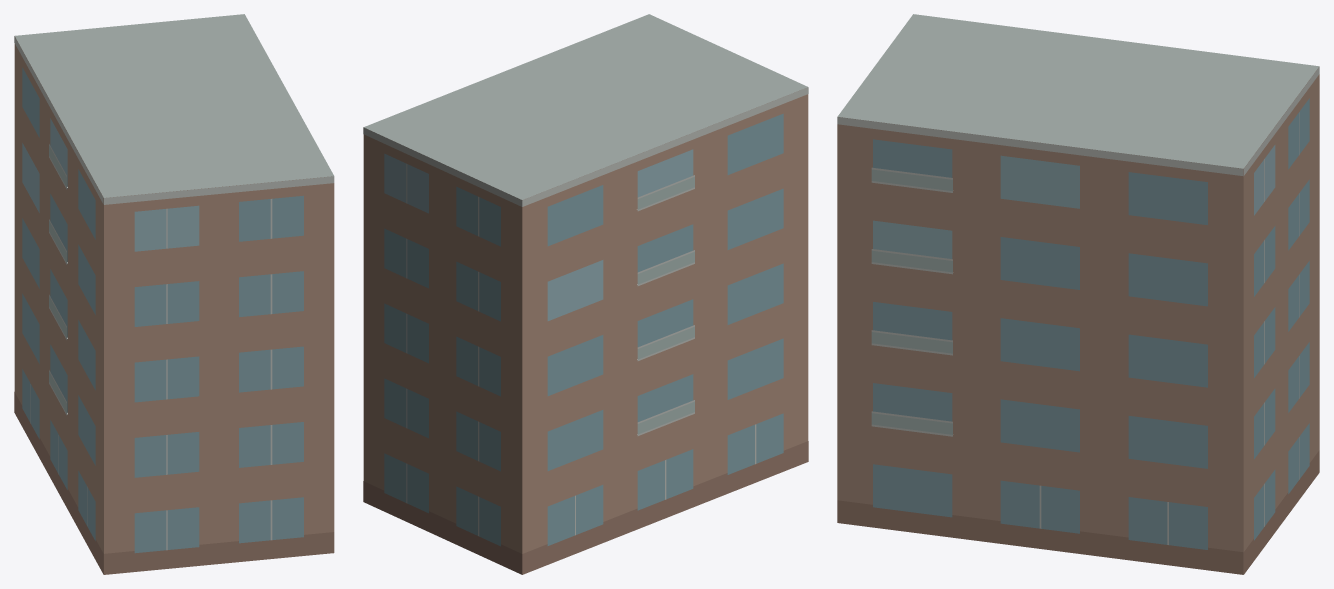
Rendered from survey-upis-32869381.glb.
The picture shows the model from 3 angles, left to right: view 1: azimuth 30°, elevation 25°; view 2: azimuth 150°, elevation 25°; view 3: azimuth 270°, elevation 25°; orthographic projection. The views are drawn at different scales.
Parts seen in each view (by area): view 1: survey-upis-32869381.tmp; view 2: survey-upis-32869381.tmp; view 3: survey-upis-32869381.tmp.
Part boxes in pixels (bbox=[...]): survey-upis-32869381.tmp: bbox=[14, 14, 334, 574]; survey-upis-32869381.tmp: bbox=[363, 14, 808, 574]; survey-upis-32869381.tmp: bbox=[837, 14, 1319, 574].
Bounding box in the file's own units: 10.79 × 13.2 × 14.21.
